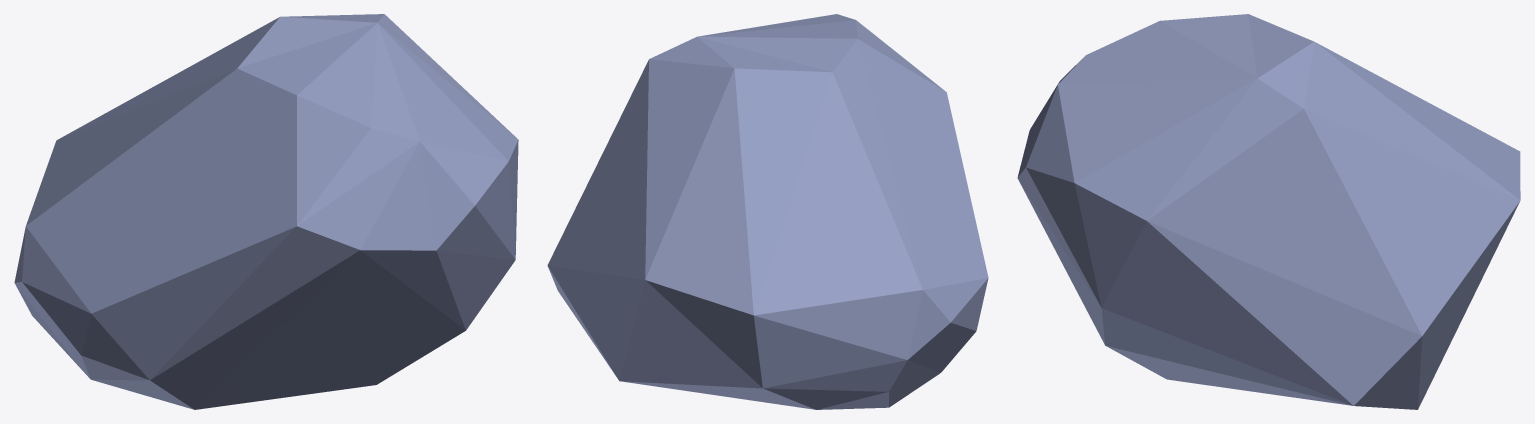
File: Stone_7.fbx
The picture shows the model from 3 angles, left to right: view 1: azimuth 30°, elevation 25°; view 2: azimuth 150°, elevation 25°; view 3: azimuth 270°, elevation 25°; orthographic projection. The views are drawn at different scales.
Parts seen in each view (by area): view 1: Stone_7; view 2: Stone_7; view 3: Stone_7.
Part boxes in pixels (x1,y1,x2,y2): Stone_7: (14, 14, 518, 409); Stone_7: (547, 14, 988, 409); Stone_7: (1017, 14, 1520, 409).
Size of the model in its own units: 0.9418 by 0.692 by 0.9539.
